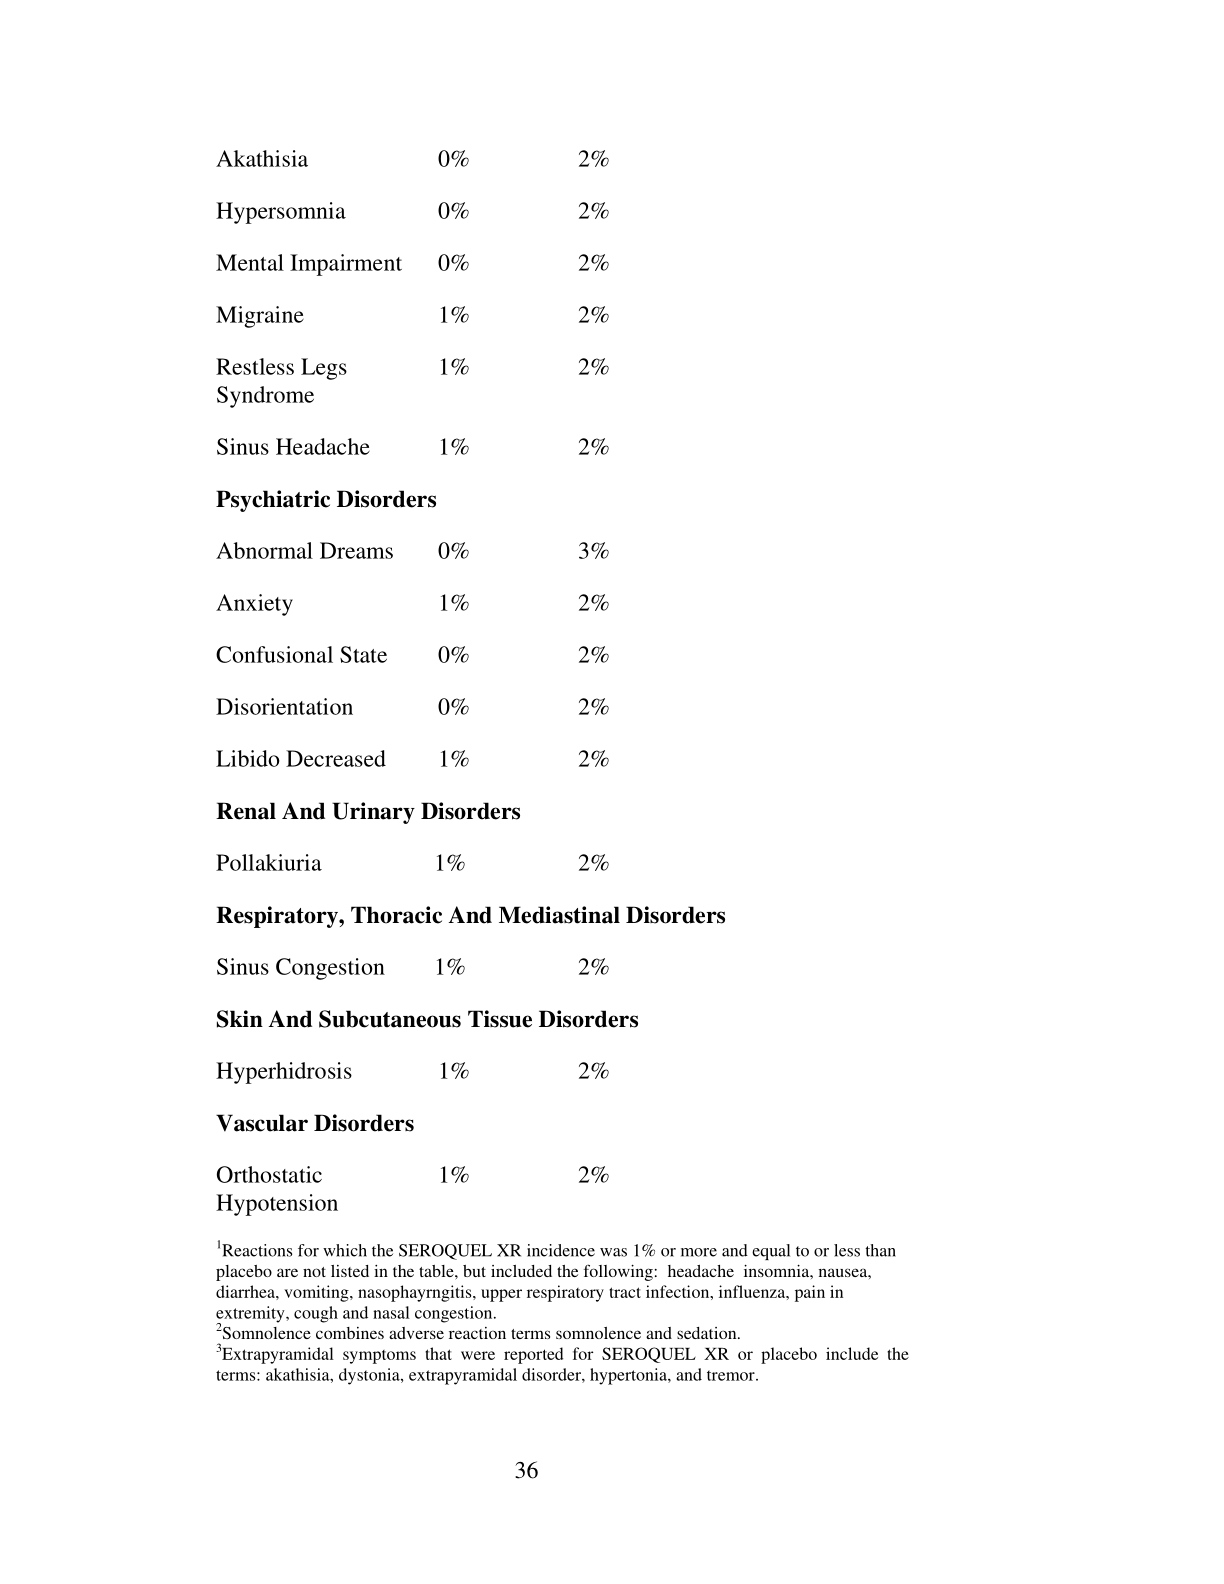nolines: (213, 144, 728, 1221)
